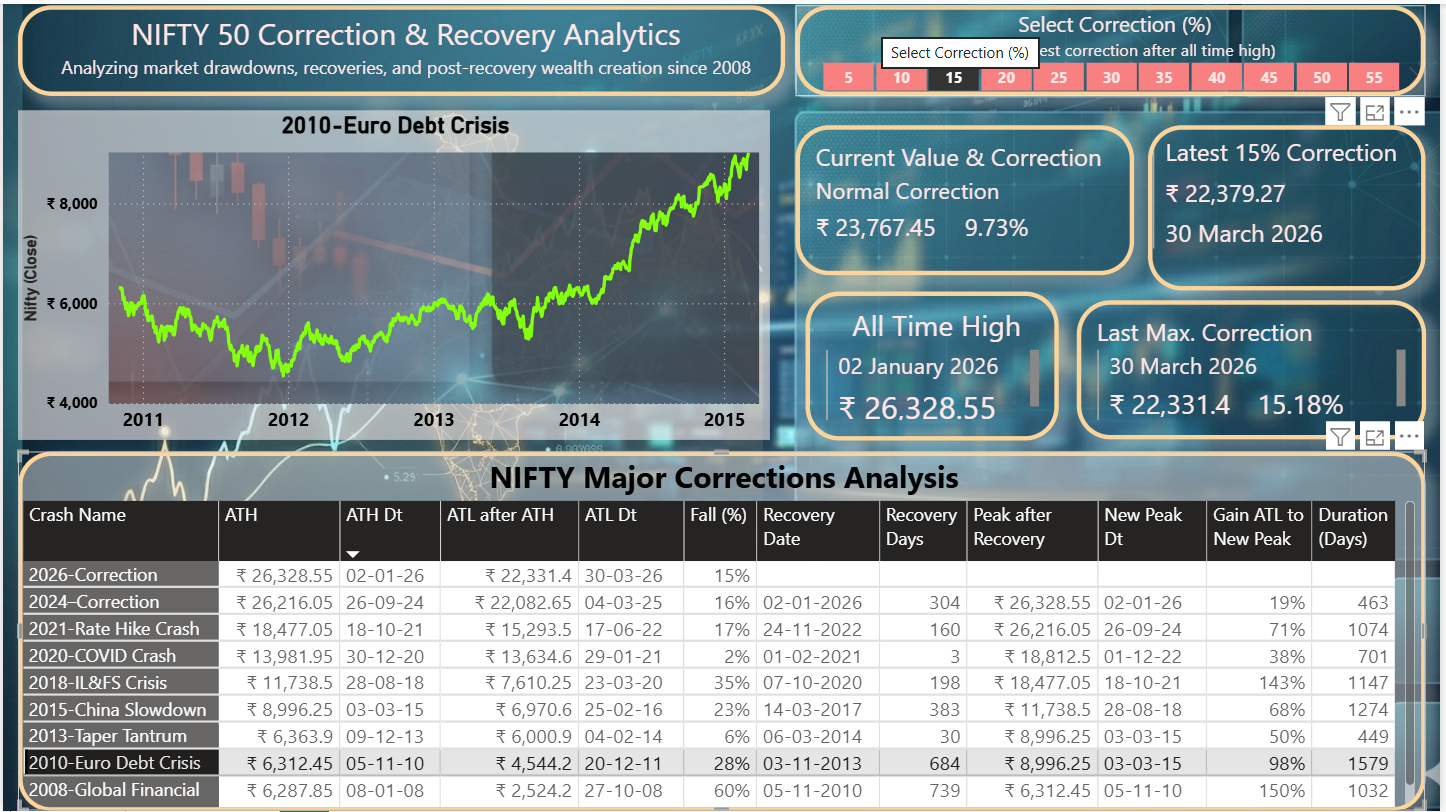

The dashboard page shown, as its layout file describes it:
{"tool":"powerbi","page":{"name":"NIFTY_50 ","canvas":[1280,720],"ordinal":0},"visuals":[{"type":"multiRowCard","title":"All Time High","fields":{"Values":["Nifty.All Time High","Nifty.All Time High Dt"]},"box":[715.2,255.5,225.8,132.5],"z":0},{"type":"multiRowCard","title":"Last Max. Correction","fields":{"Values":["Nifty.Correction","Nifty.Correction Dt","Nifty.correction (%)"]},"box":[955.8,263.6,310.9,124.4],"z":1000},{"type":"multiRowCard","title":"Current Value & Correction","fields":{"Values":["Nifty.Current Value","Nifty.Current Correction","Nifty.Play Book"]},"box":[705.7,108.2,301.5,133.8],"z":2000},{"type":"slicer","title":"Select Correction (%)","fields":{"Values":["Fall From ATH.Fall Percentage"]},"box":[705.8,1.2,561,80.8],"z":3000},{"type":"multiRowCard","fields":{"Values":["Fall From ATH.Header","Nifty.Fall Value","Nifty.Date of Fall"]},"box":[1019.4,108.2,247.4,147.4],"z":4000},{"type":"pivotTable","title":"NIFTY Major Corrections Analysis","fields":{"Rows":["Crash History.Crash Name"],"Values":["Nifty.ATH","Nifty.ATH Dt","Nifty.ATL after ATH","Nifty.ATL Dt","Nifty.Max fall","Nifty.Recovery Date","Nifty.Recovery Days","Nifty.Peak after Recovery","Nifty.New Peak Dt","Nifty.Gain ATL to New Peak","Nifty.Duration"]},"box":[13.5,398.8,1253.2,320.4],"z":5000},{"type":"card","title":"NIFTY 50 Correction & Recovery Analytics","fields":{"Values":["Crash History.Title"]},"box":[13.4,1.3,683.2,80.7],"z":6000},{"type":"lineChart","title":"Nifty (Close) by Date","fields":{"Y":["Sum(Nifty.Close)"],"Category":["Nifty.Date"]},"box":[13.5,94.6,669.2,293.4],"z":7000}]}

Visuals, with their boxes in screenshot pixels (x1, y1, x2, y2), scaled from the page's 1280x720 canvas onto the 1446x812 screenshot:
"All Time High" multiRowCard: crop(808, 288, 1063, 438)
"Last Max. Correction" multiRowCard: crop(1080, 297, 1431, 438)
"Current Value & Correction" multiRowCard: crop(797, 122, 1138, 273)
"Select Correction (%)" slicer: crop(797, 1, 1431, 92)
multiRowCard - Fall From ATH.Header x Nifty.Fall Value: crop(1152, 122, 1431, 288)
"NIFTY Major Corrections Analysis" pivotTable: crop(15, 450, 1431, 811)
"NIFTY 50 Correction & Recovery Analytics" card: crop(15, 1, 787, 92)
"Nifty (Close) by Date" lineChart: crop(15, 107, 771, 438)
